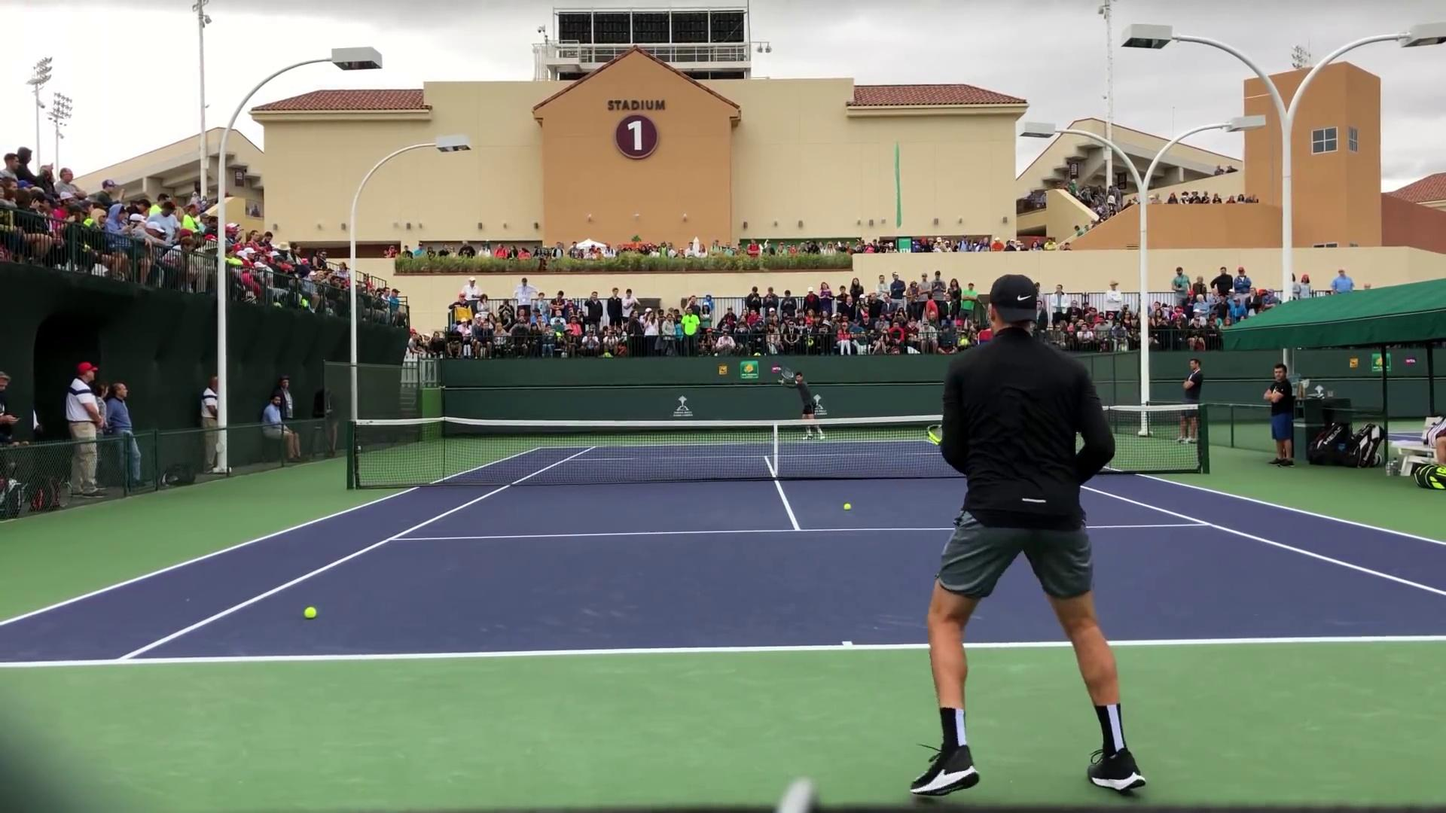ball: (302, 607, 317, 618), (843, 501, 850, 510)
